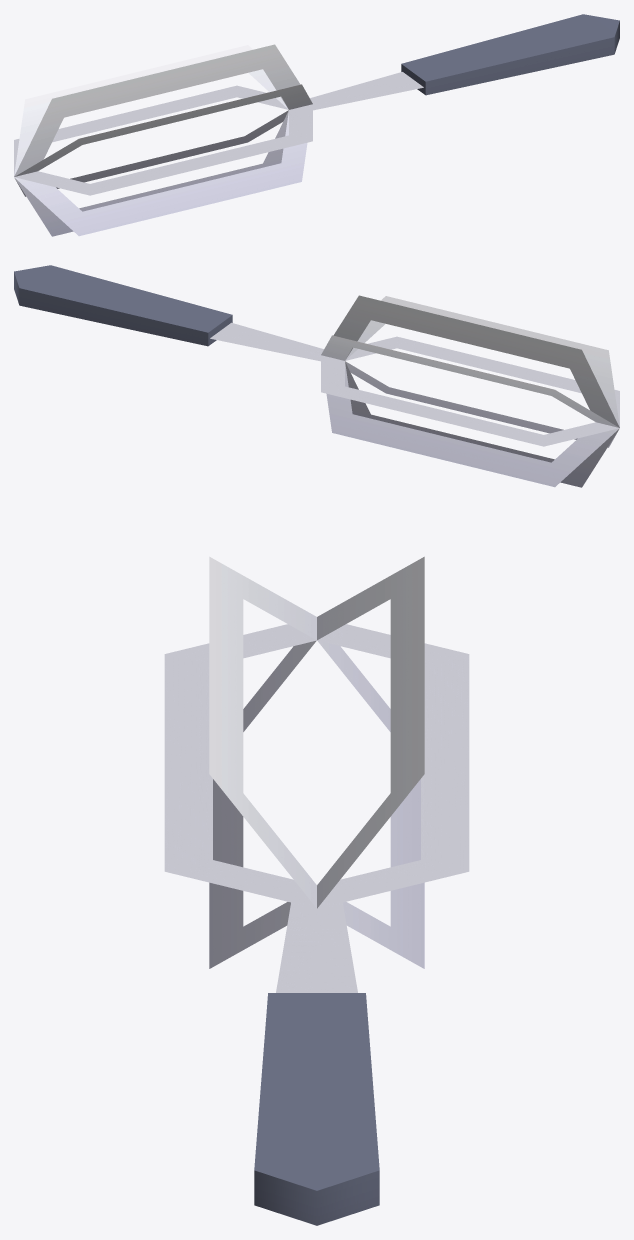
File: whisk.glb
The picture shows the model from 3 angles, top to bottom: view 1: azimuth 30°, elevation 25°; view 2: azimuth 150°, elevation 25°; view 3: azimuth 270°, elevation 25°; orthographic projection. The views are drawn at different scales.
Parts seen in each view (by area): view 1: whisk; view 2: whisk; view 3: whisk.
Part boxes in pixels (x1,y1,x2,y2): whisk: (14, 14, 619, 236); whisk: (14, 265, 619, 487); whisk: (164, 556, 469, 1225).
Size of the model in its own units: 0.7244 by 0.1576 by 0.1576.
Materials: 1 (1 with a texture image).
